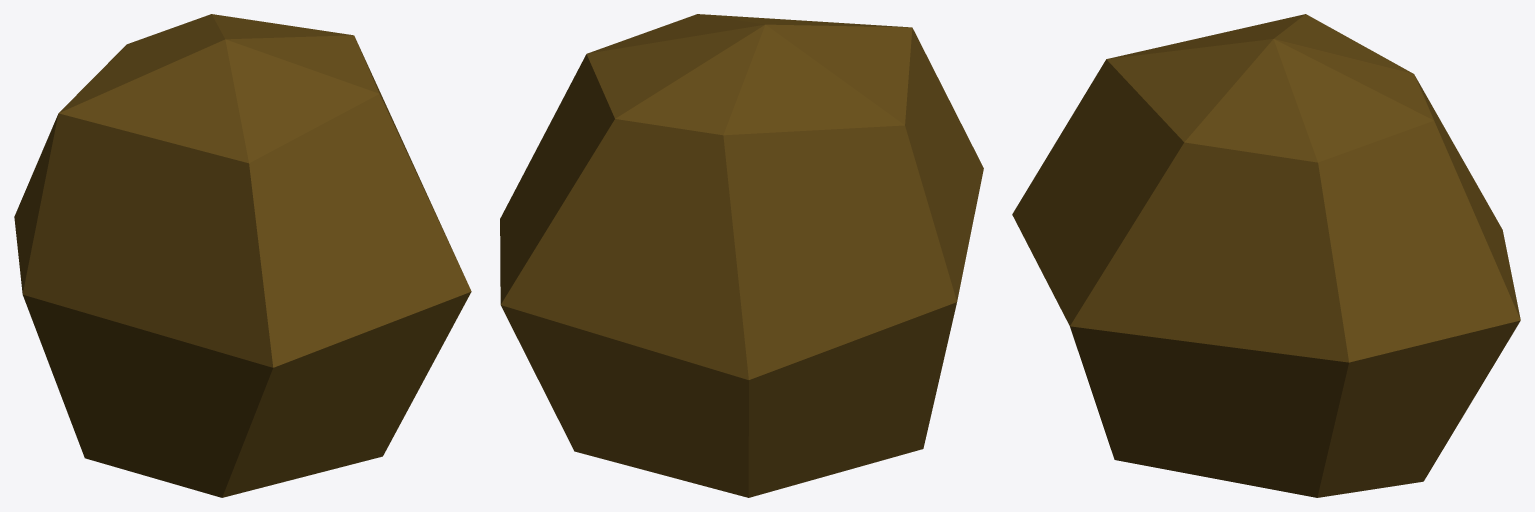
File: RockParticle.fbx
The picture shows the model from 3 angles, left to right: view 1: azimuth 30°, elevation 25°; view 2: azimuth 150°, elevation 25°; view 3: azimuth 270°, elevation 25°; orthographic projection. The views are drawn at different scales.
Parts seen in each view (by area): view 1: pSphere1; view 2: pSphere1; view 3: pSphere1.
Part boxes in pixels (left/top/right/bottom): pSphere1: left=14, top=14, right=471, bottom=497; pSphere1: left=500, top=14, right=983, bottom=497; pSphere1: left=1012, top=14, right=1520, bottom=497.
Size of the model in its own units: 37.06 by 36.45 by 39.17.
